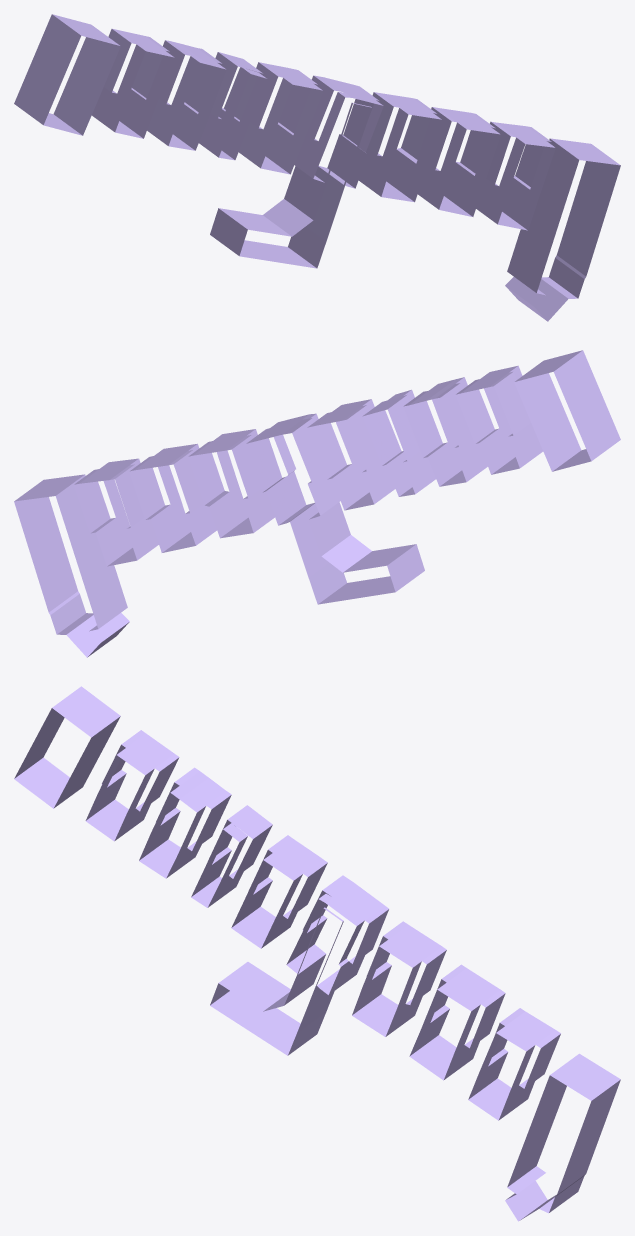
File: Wall_Hini_4.0_Slope_3.0.obj
The picture shows the model from 3 angles, top to bottom: view 1: azimuth 30°, elevation 25°; view 2: azimuth 150°, elevation 25°; view 3: azimuth 330°, elevation 25°; orthographic projection.
Parts seen in each view (by area): view 1: 4, 1, 9, 2, 3, 6, 10, 8, 7, 5; view 2: 4, 1, 9, 8, 3, 2, 6, 10, 7, 5; view 3: 4, 1, 9, 3, 2, 10, 6, 8, 7, 5.
Part boxes in pixels (x1,y1,x2,y2): 4: (210, 75, 383, 268); 1: (505, 138, 620, 321); 9: (14, 14, 120, 135); 2: (358, 92, 441, 202); 3: (418, 107, 500, 216); 6: (239, 62, 322, 174); 10: (476, 121, 555, 230); 8: (91, 28, 174, 138); 7: (147, 40, 226, 150); 5: (199, 52, 266, 160); 4: (245, 413, 424, 604); 1: (14, 474, 129, 657); 9: (514, 350, 620, 471); 8: (455, 365, 543, 474); 3: (129, 443, 216, 552); 2: (188, 429, 274, 538); 6: (307, 399, 395, 510); 10: (74, 458, 158, 566); 7: (403, 377, 487, 486); 5: (362, 389, 435, 496); 4: (210, 875, 388, 1055); 1: (505, 1053, 620, 1221); 9: (14, 686, 120, 808); 3: (409, 964, 505, 1080); 2: (352, 921, 446, 1036); 10: (468, 1008, 560, 1120); 6: (231, 835, 327, 948); 8: (85, 730, 179, 841); 7: (139, 767, 231, 878); 5: (191, 805, 272, 907).
Bounding box in the file's own units: 135 × 89.5 × 12.
